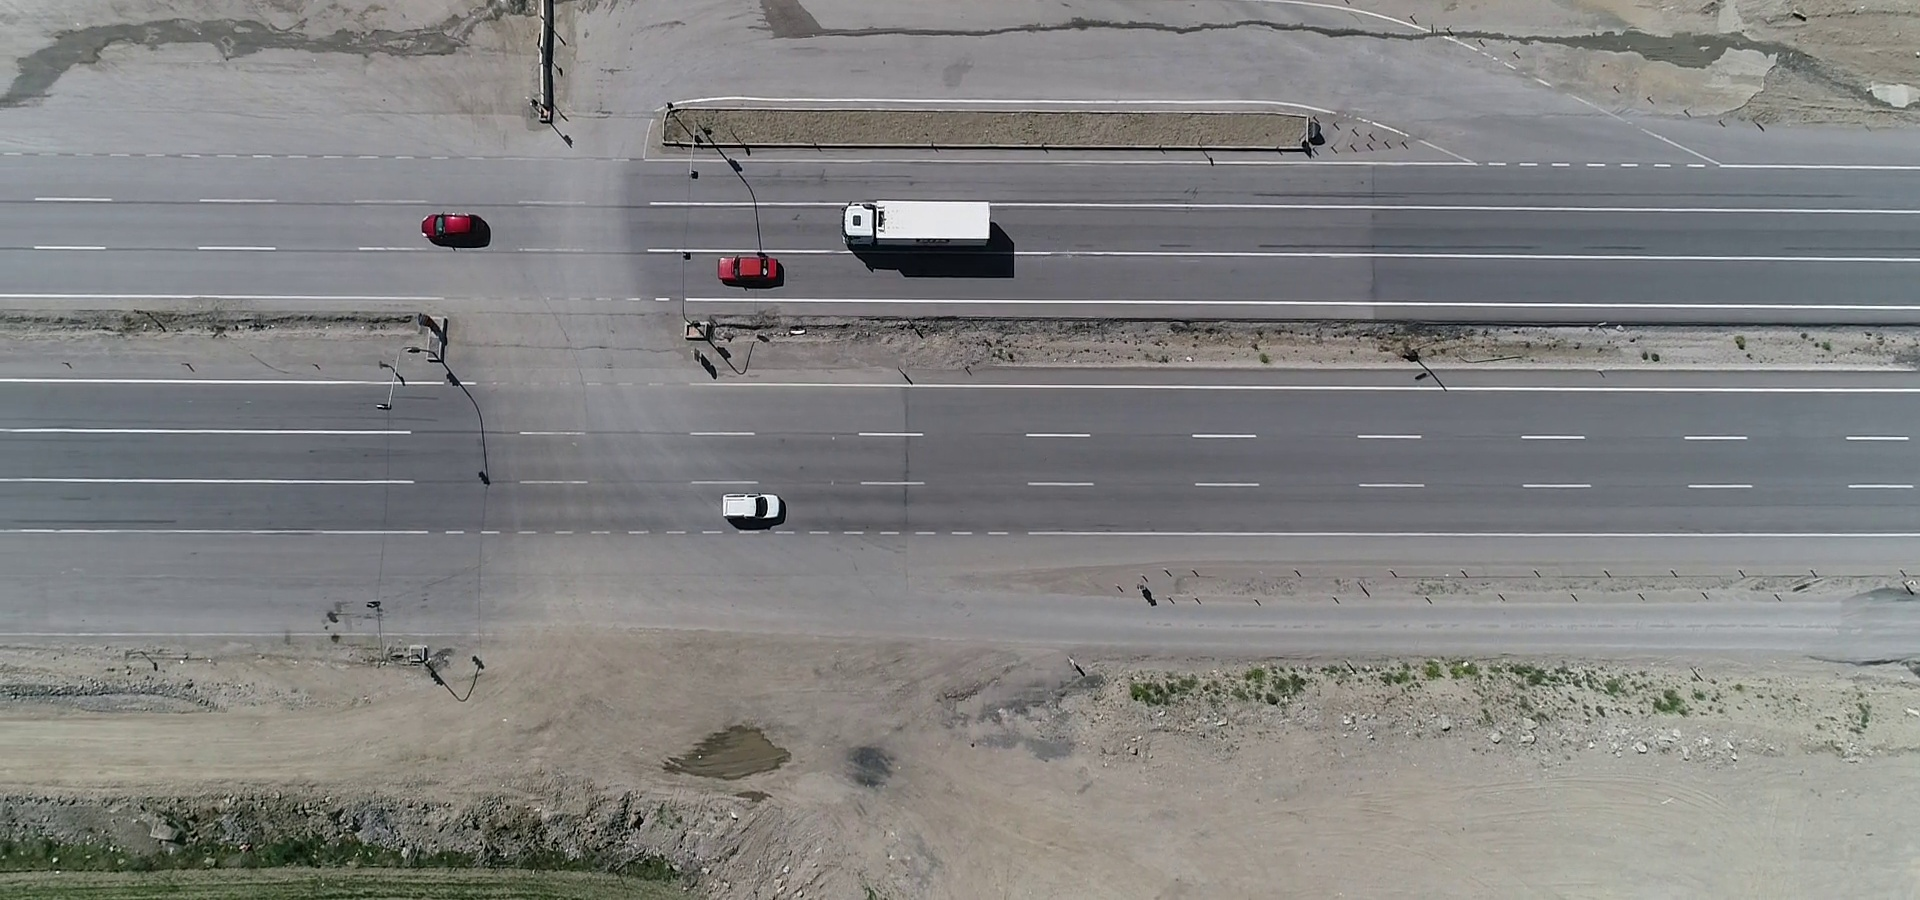araba: (711, 245, 800, 291), (414, 203, 504, 245), (716, 487, 785, 538)
kamyon: (830, 193, 1010, 256)
